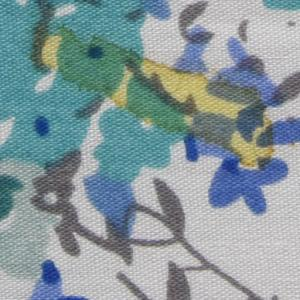Oil Stain: (29, 22, 298, 175)
